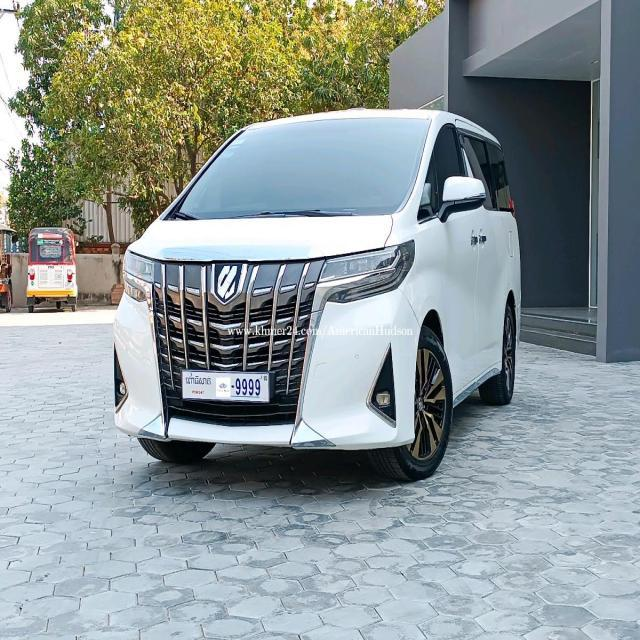Pursat: (185, 376, 211, 386)
